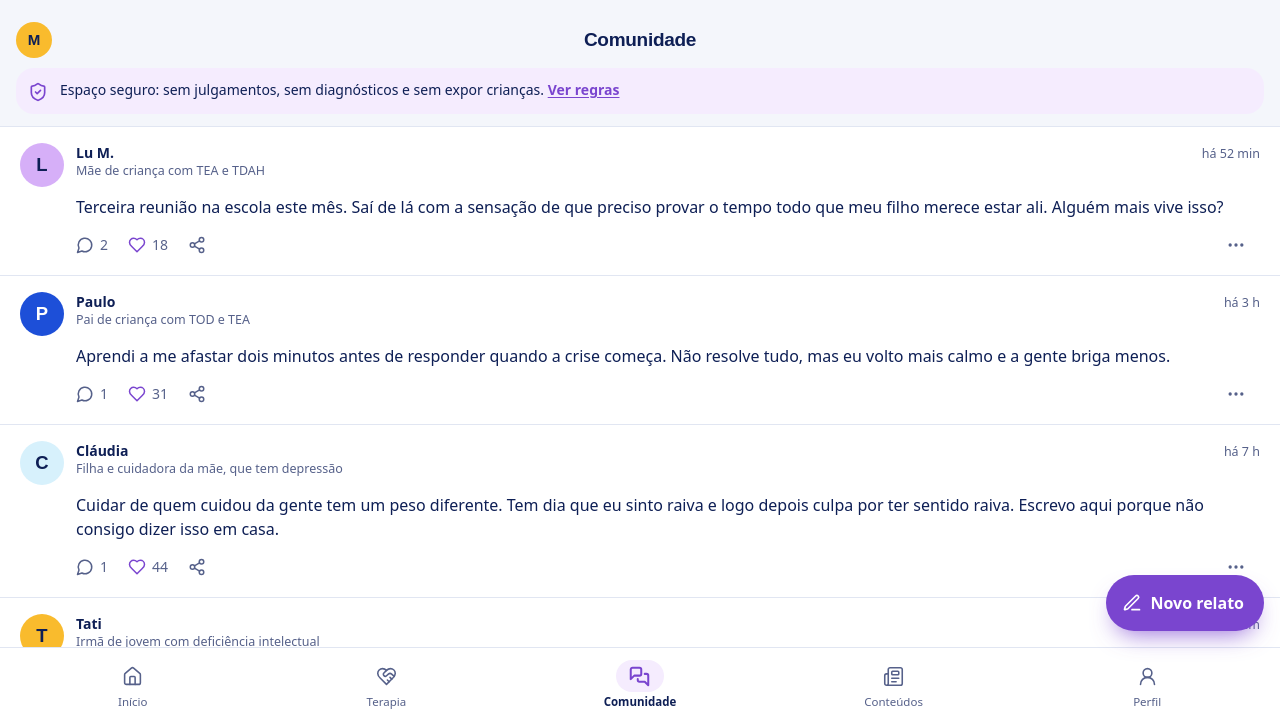
it: Comunidade › publica um relato só depois da confirmação de proteção
Click the button "Novo relato". click: [1185, 603]
box: left=1106, top=575, right=1264, bottom=631
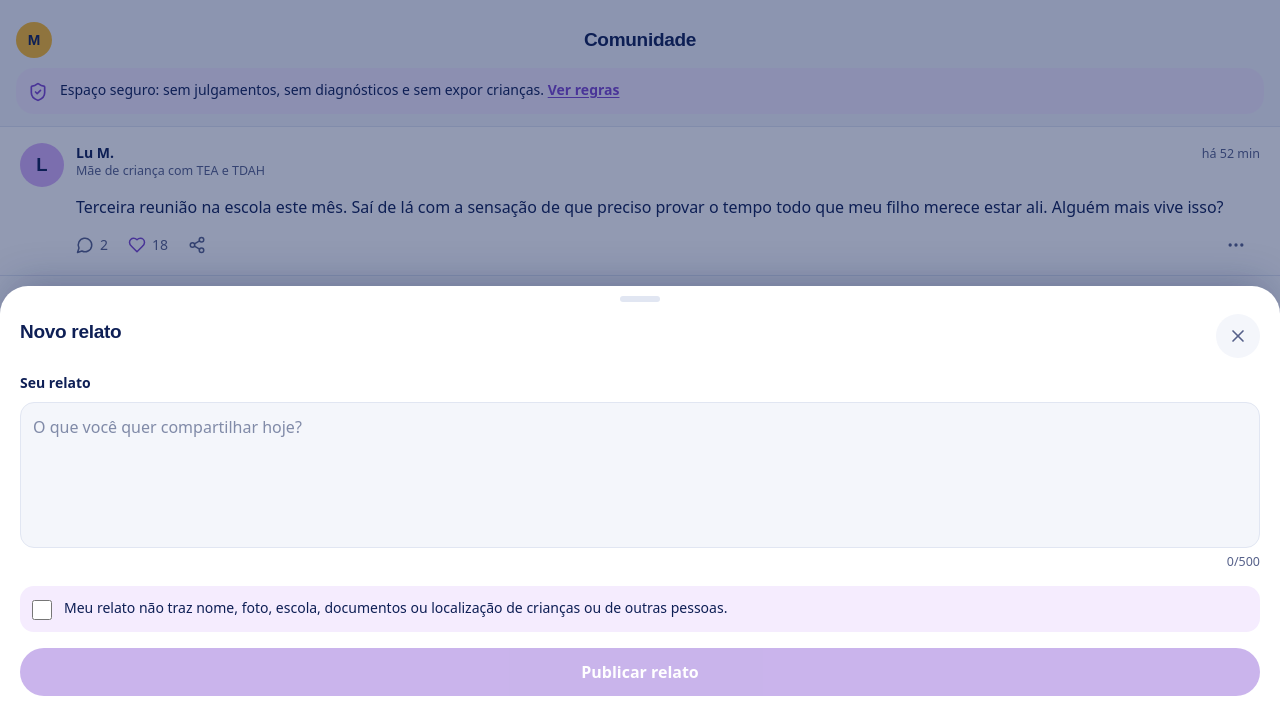
Type "Primeira vez escrevendo aqui." into the text box labelled "Seu relato". click: [640, 475]
box: left=20, top=402, right=1260, bottom=548
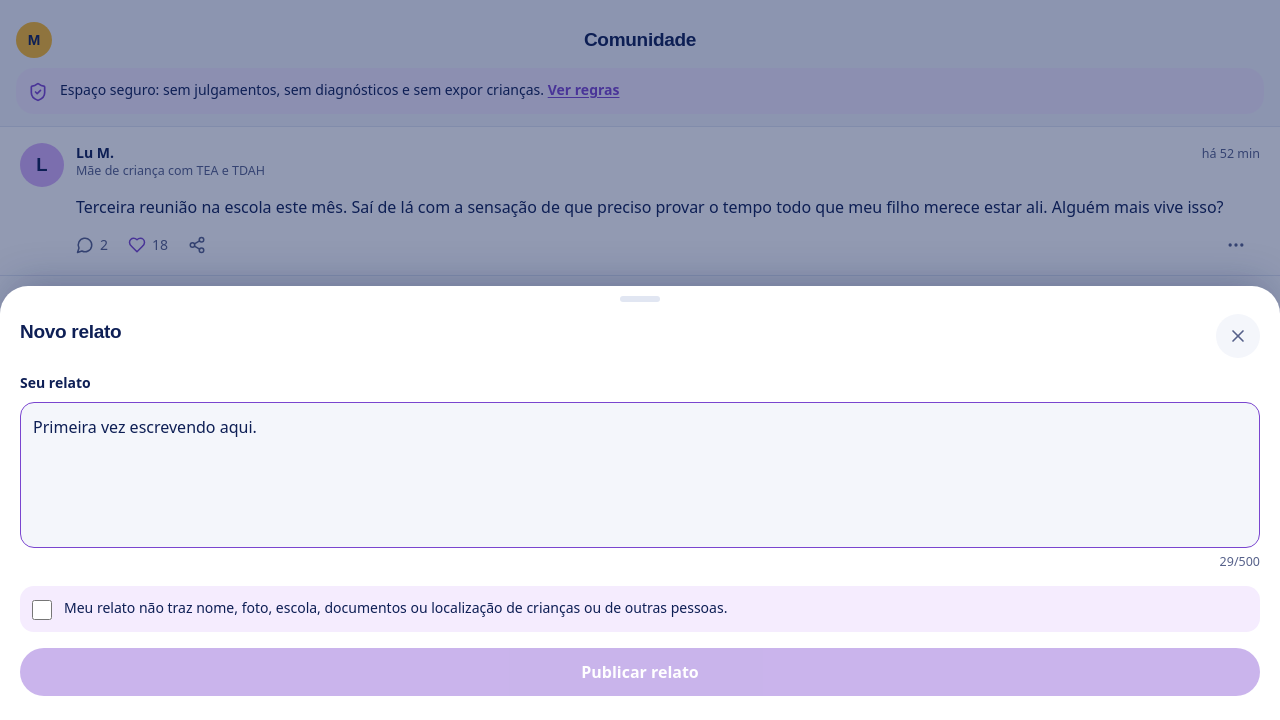
Check: the button "Publicar relato" is disabled, box left=20, top=648, right=1260, bottom=696
Click the checkbox. click: [42, 610]
box: left=32, top=600, right=52, bottom=620
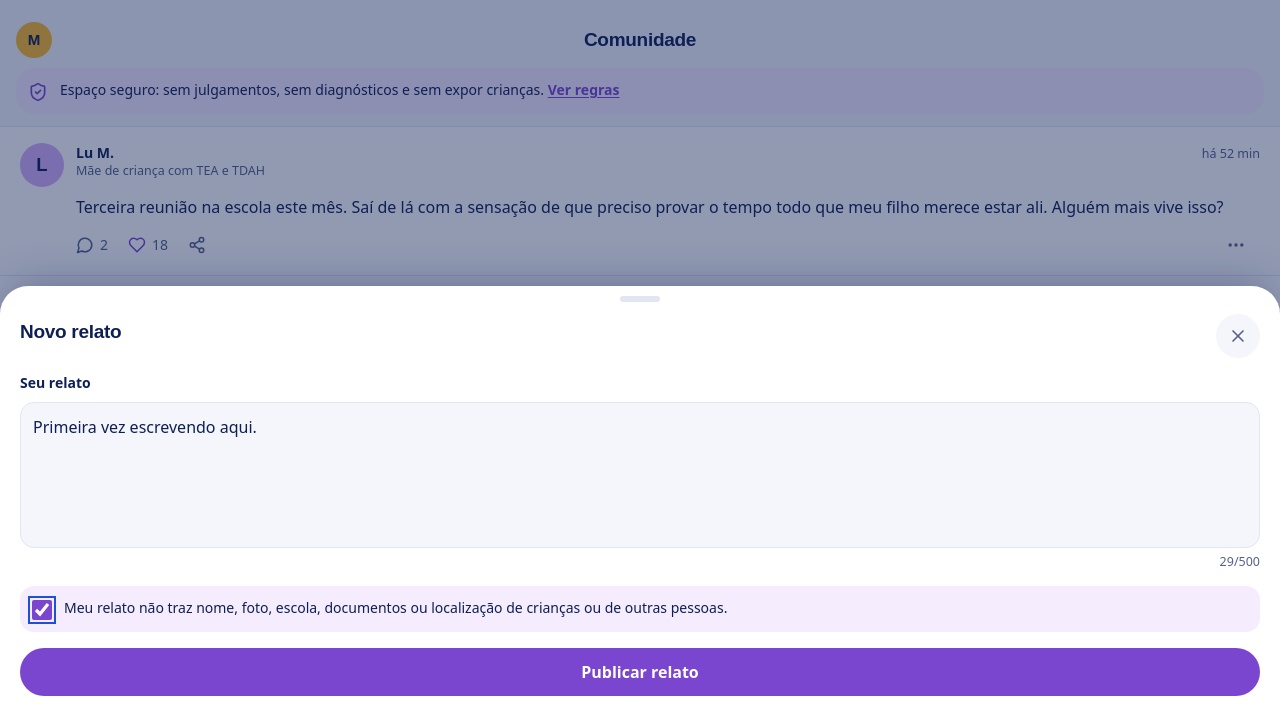
Check: the button "Publicar relato" is enabled
Click the button "Publicar relato". click: [640, 672]
box: left=20, top=648, right=1260, bottom=696
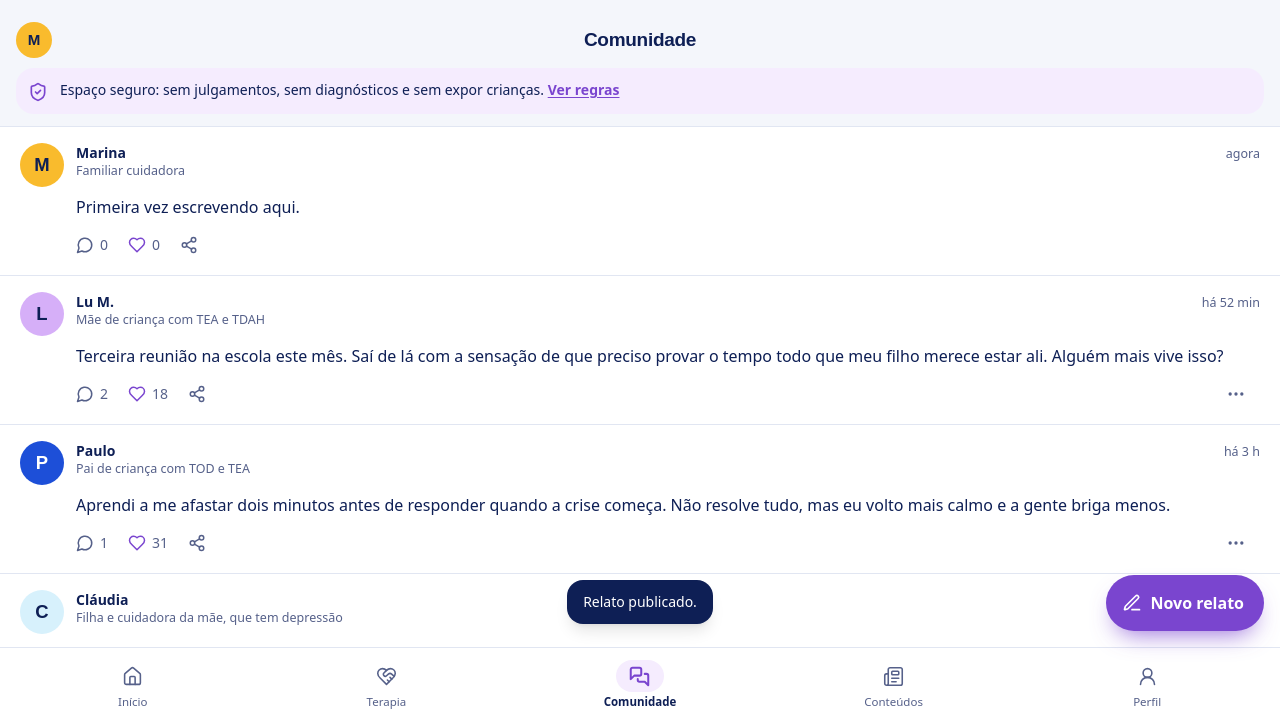
Check: the dialog is gone
Check: the button "Primeira vez escrevendo aqui." is shown, box left=20, top=195, right=1260, bottom=219
